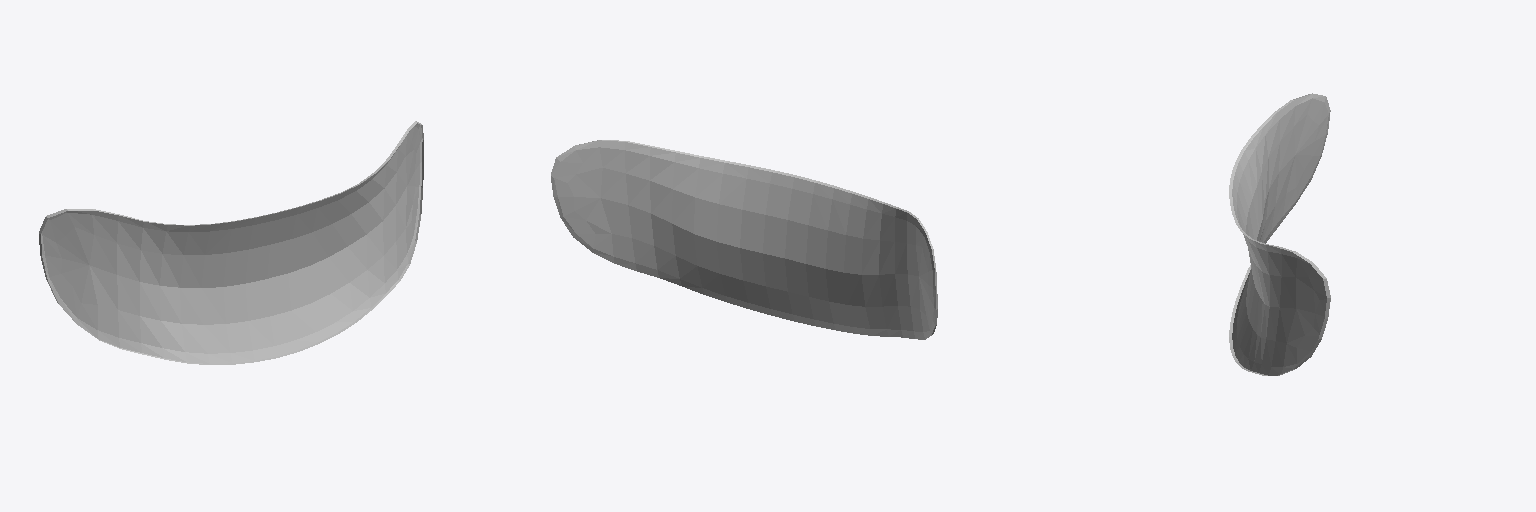
File: glumb3.obj
The picture shows the model from 3 angles: view 1: azimuth 30°, elevation 25°; view 2: azimuth 150°, elevation 25°; view 3: azimuth 270°, elevation 25°; orthographic projection.
Visible parts, largest first — view 1: Mouth_black_Sphere.003; view 2: Mouth_black_Sphere.003; view 3: Mouth_black_Sphere.003.
Boxes of the visible parts, x1,y1,x2,y2 form: Mouth_black_Sphere.003: [39, 121, 423, 364]; Mouth_black_Sphere.003: [551, 140, 937, 339]; Mouth_black_Sphere.003: [1229, 93, 1330, 375].
Size of the model in its own units: 2.75 by 1.13 by 0.633.